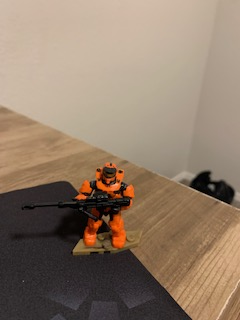spartan: (72, 160, 133, 251)
